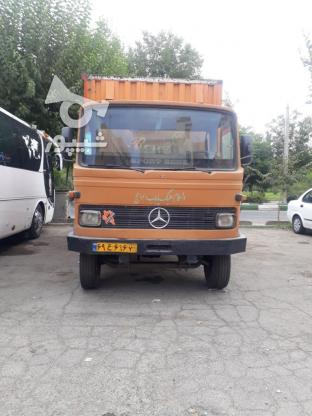car: (94, 243, 136, 252)
